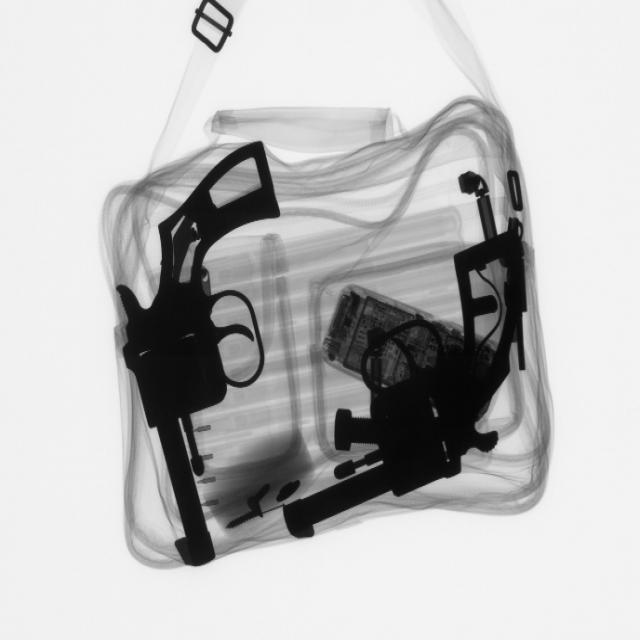GUN: (108, 135, 287, 571), (290, 234, 515, 549)
